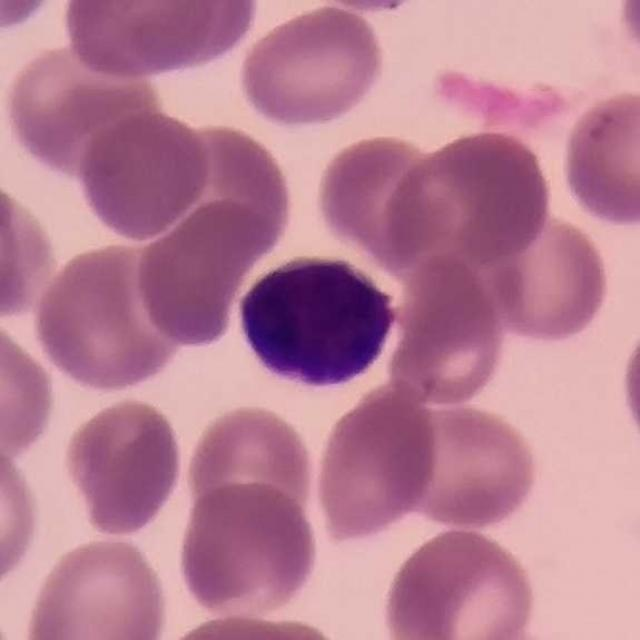Lymphocyte: (230, 246, 408, 398)
RBC: (379, 126, 556, 272), (29, 237, 189, 395), (0, 38, 164, 178), (309, 379, 443, 543), (174, 477, 322, 620), (149, 119, 295, 263), (392, 396, 544, 533), (235, 2, 389, 132), (132, 194, 260, 350), (377, 523, 542, 640), (386, 257, 511, 411), (74, 107, 214, 244), (312, 130, 449, 267), (59, 394, 186, 539), (483, 208, 614, 346), (182, 401, 320, 531), (20, 532, 173, 640), (58, 0, 227, 82), (556, 83, 640, 230), (132, 0, 261, 73), (0, 314, 59, 463), (0, 174, 59, 322), (0, 435, 45, 596), (154, 609, 352, 640), (615, 298, 640, 483), (0, 0, 67, 38), (284, 0, 443, 16), (613, 0, 640, 80), (0, 597, 26, 640)
